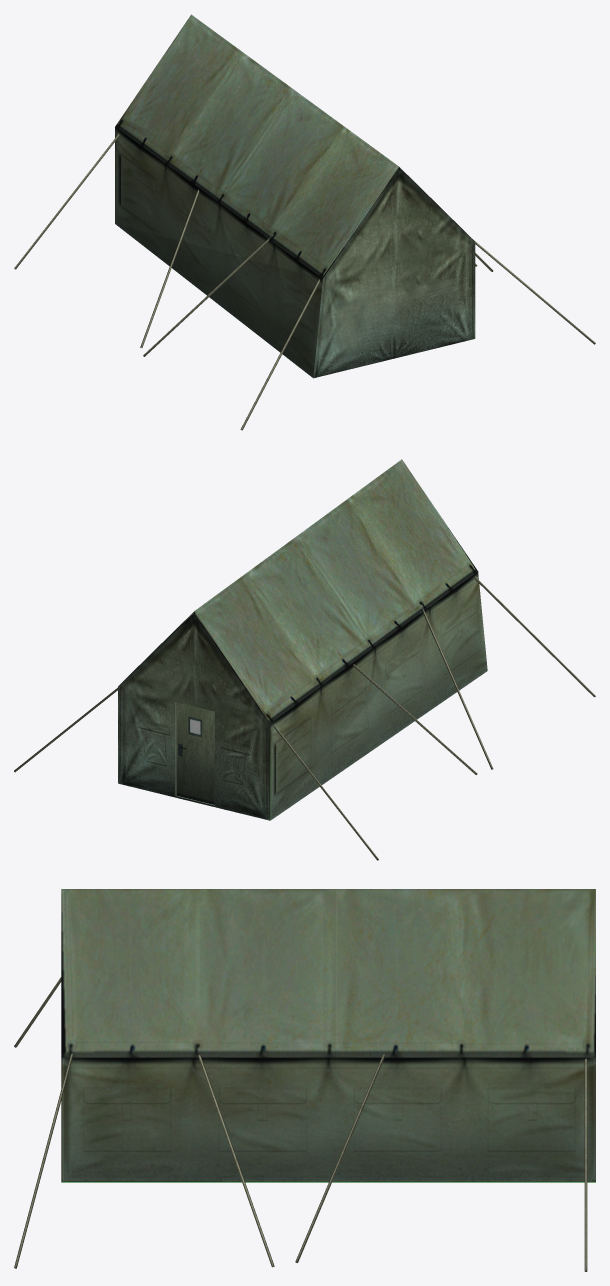
The model's file is tent 01.FBX.
The picture shows the model from 3 angles, top to bottom: view 1: azimuth 30°, elevation 25°; view 2: azimuth 150°, elevation 25°; view 3: azimuth 270°, elevation 25°; orthographic projection. The views are drawn at different scales.
Visible parts, largest first — view 1: tent 01; view 2: tent 01; view 3: tent 01.
Boxes of the visible parts, <box> form: tent 01: <box>14,14,595,430</box>; tent 01: <box>14,459,595,860</box>; tent 01: <box>14,889,595,1271</box>.
Bounding box in the file's own units: 775 × 422 × 831.
1 material, 1 textured.
